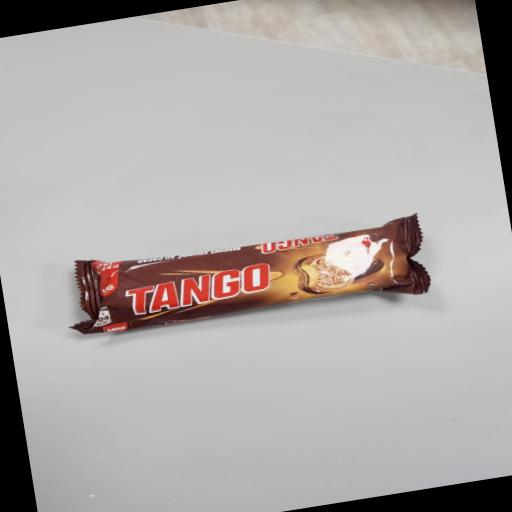tango: (23, 136, 486, 390)
